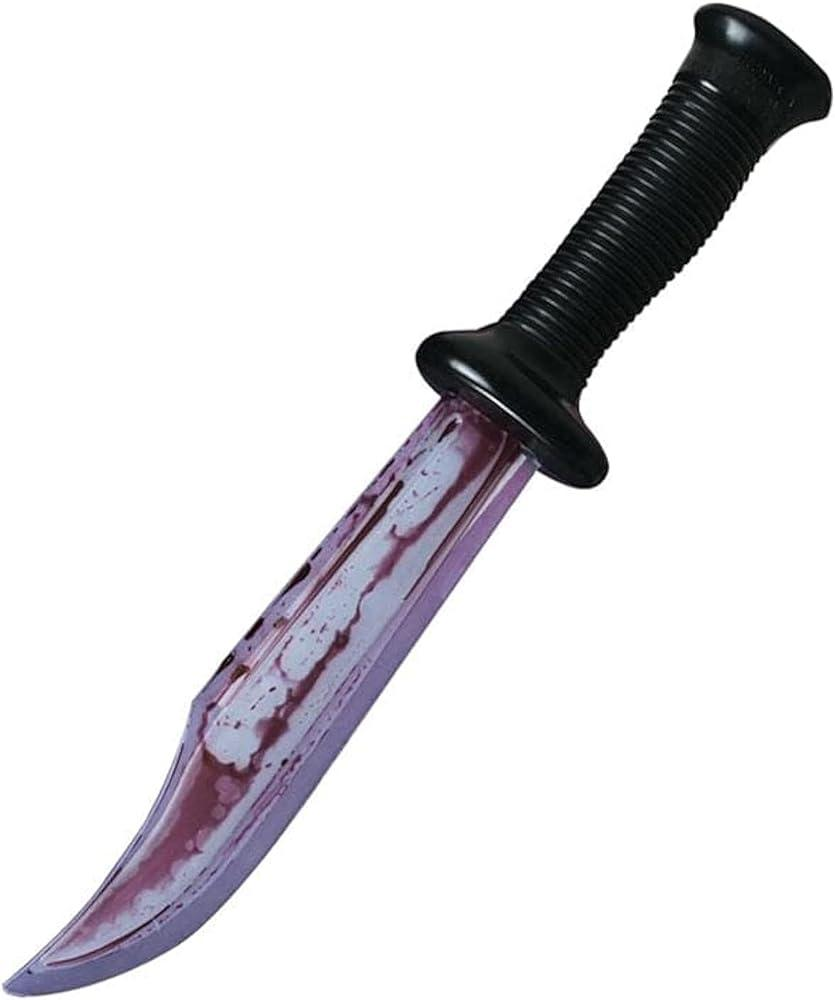Knife: (0, 3, 835, 1000)
